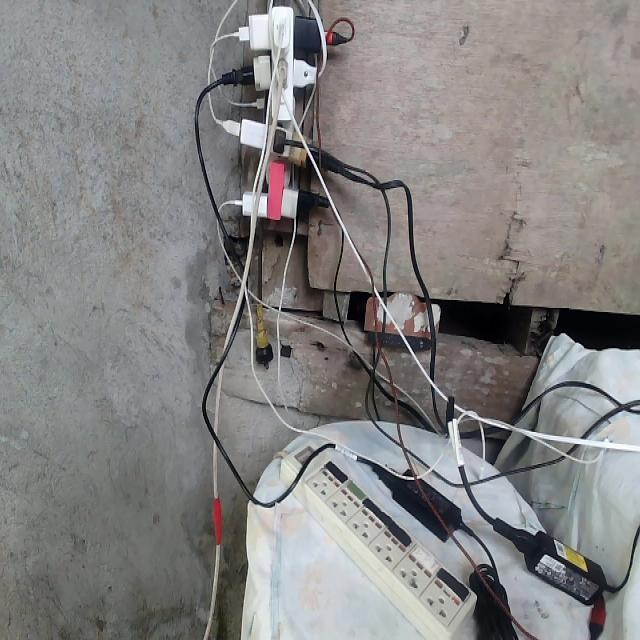-: (226, 6, 327, 222)
